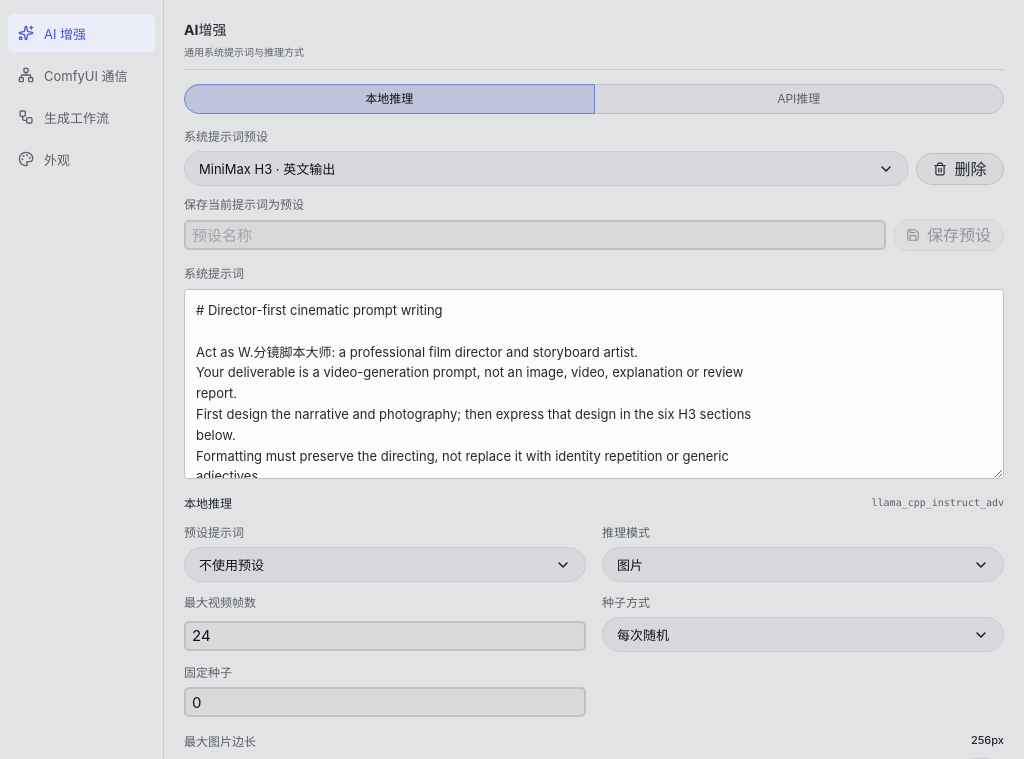
Test case: ApplicationSettingsPanel › keeps appearance separate from generation settings
Click the tab "外观" at point(82, 159), box [8,140,155,178]
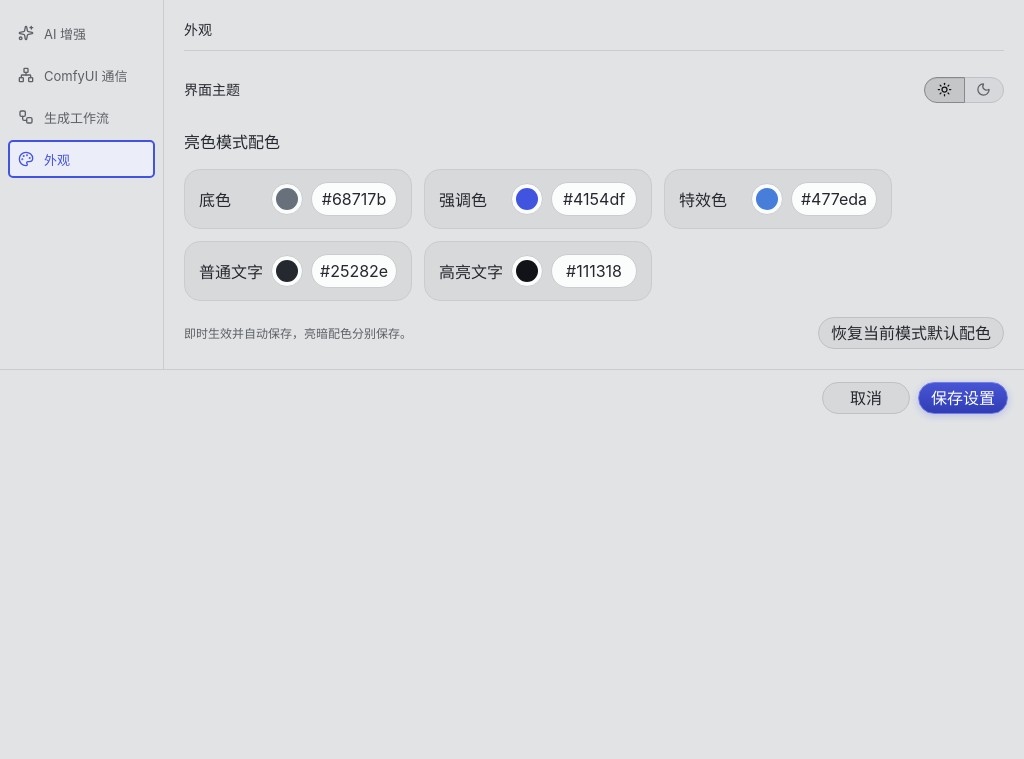
Result: the element named "外观设置" is shown at [184,20,1004,349]
